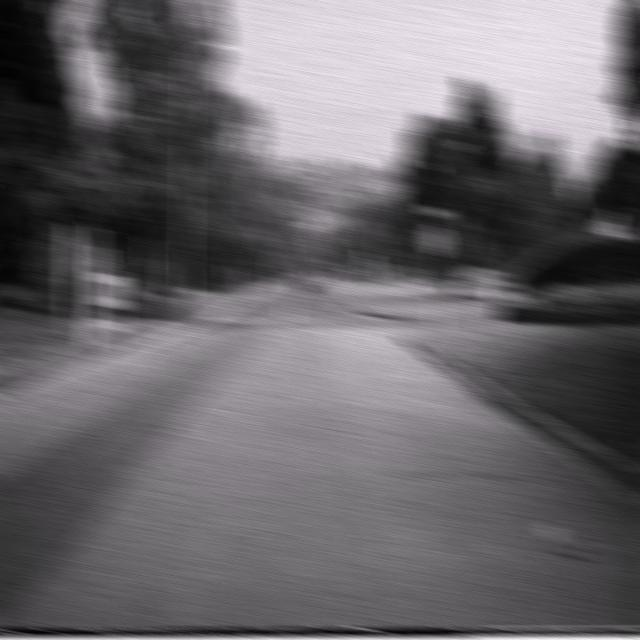stop_sign: (422, 222, 448, 256)
